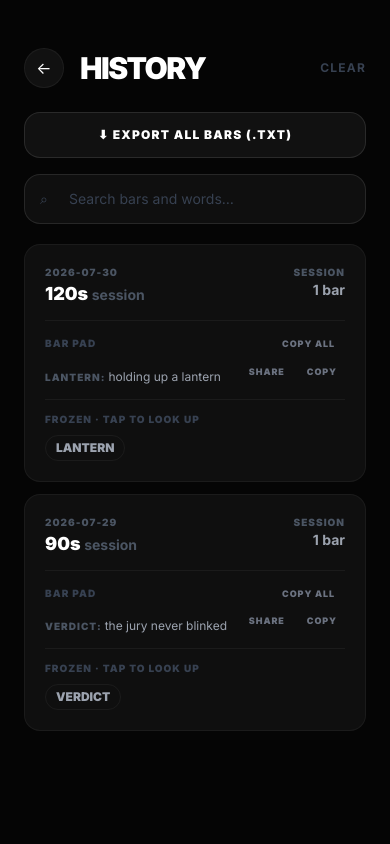
History search › reports a miss rather than showing an unexplained empty list
The width and height of the screenshot is (390, 844).
In the search field named "Search session history": (195, 199) [24, 174, 366, 224], type "zzzz"
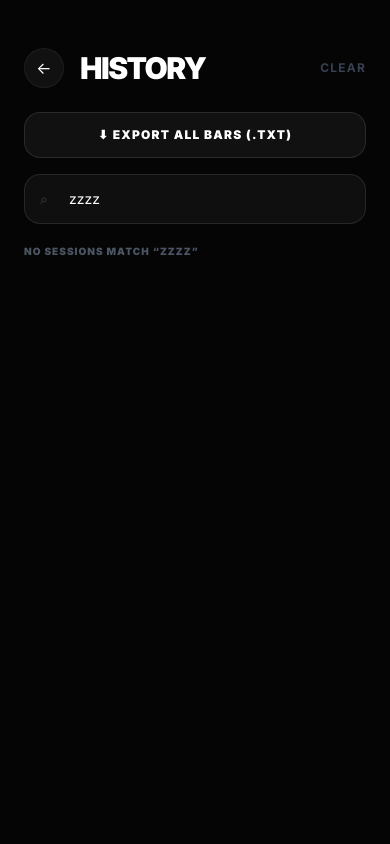
Expected: the text "No sessions match “zzzz”" is shown, [24, 245, 199, 257]
